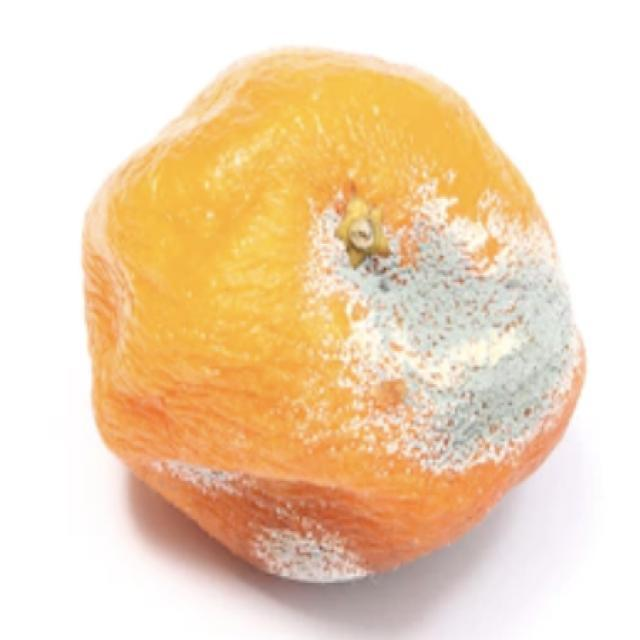sedikit-busuk: (83, 50, 583, 579), (313, 198, 578, 471), (210, 510, 372, 581), (186, 481, 229, 509)
